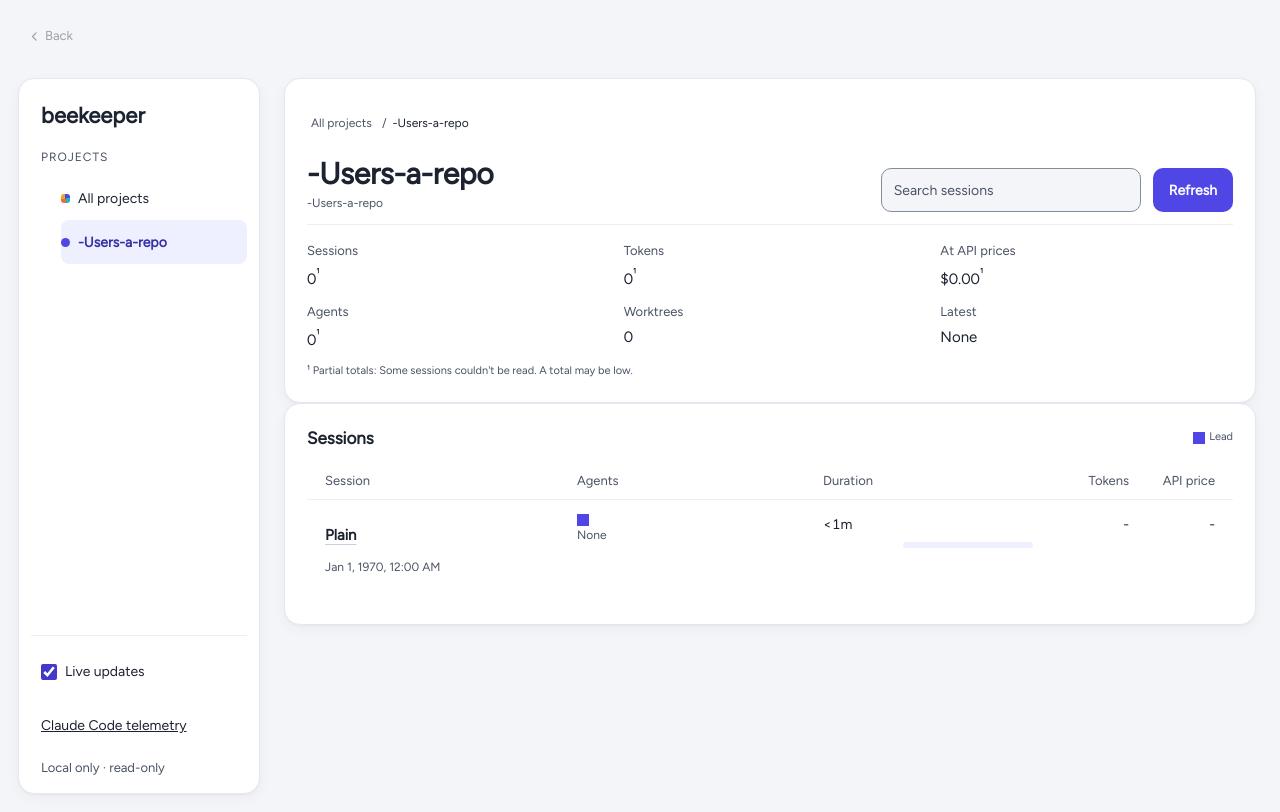
Scenario: session search by workflow run › shows a workflow name as plain text
The image size is (1280, 812).
Type "bold" into the search field labelled "Search sessions" at (1011, 190), box left=881, top=168, right=1141, bottom=212
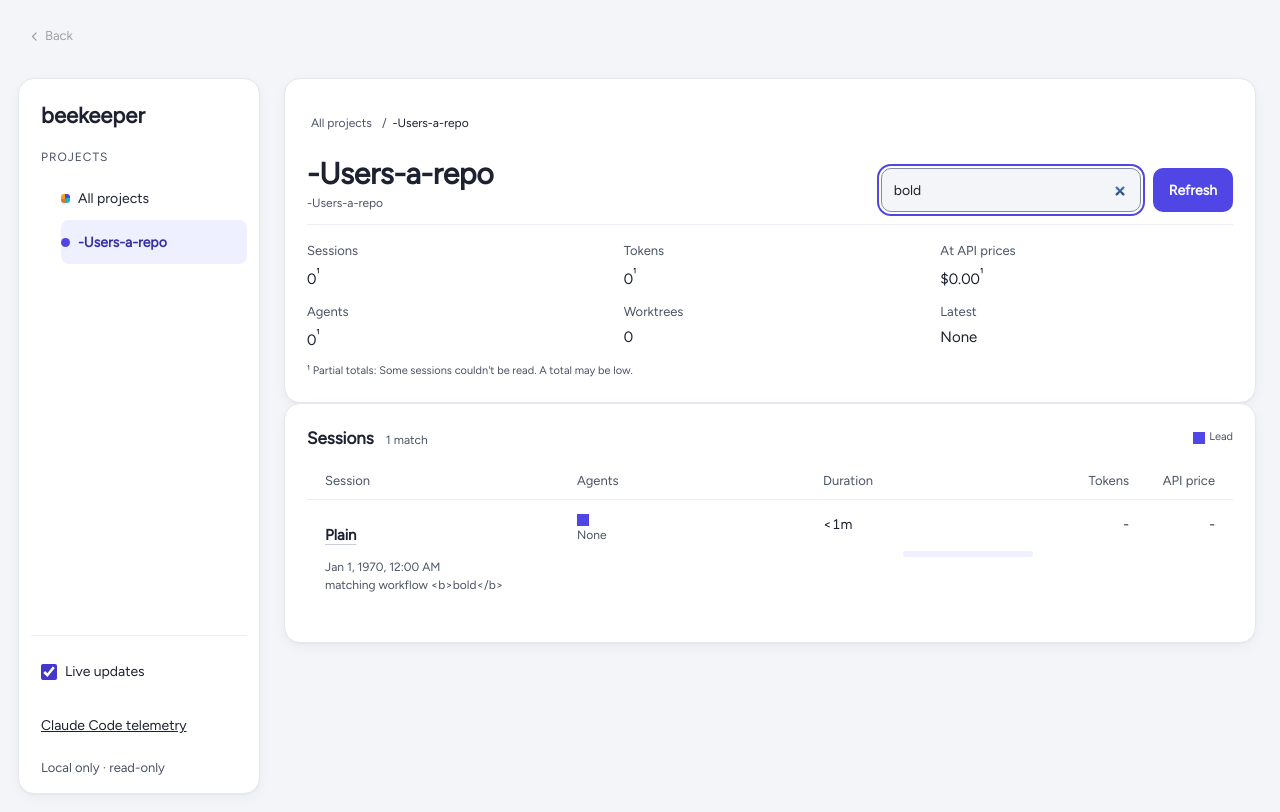
Result: the text "matching workflow <b>bold</b>" is shown at left=325, top=578, right=503, bottom=592
